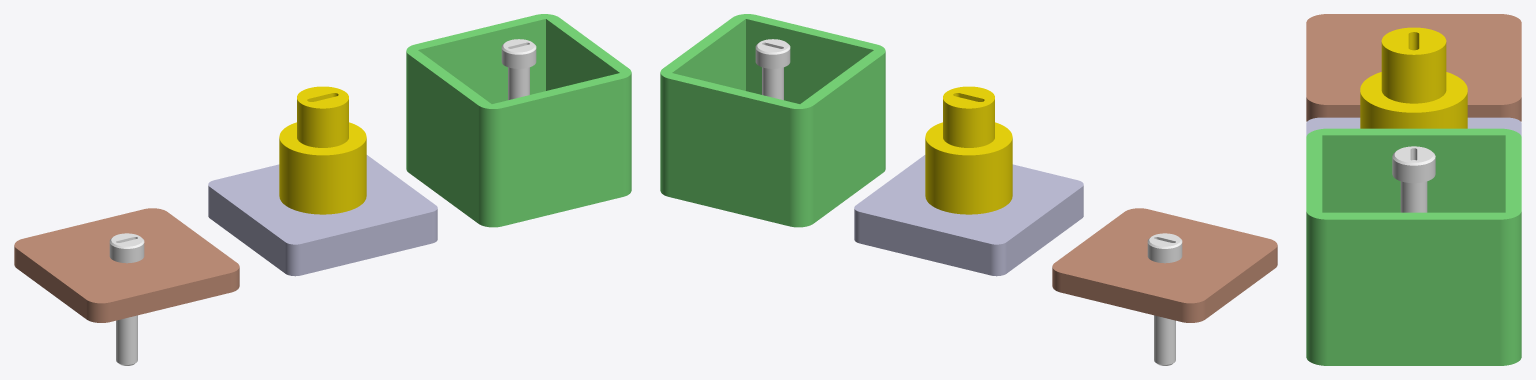
Rendered from kompleks_montaj_sade_orta.gltf.
3 renders of one model, left to right at view 1: azimuth 30°, elevation 25°; view 2: azimuth 150°, elevation 25°; view 3: azimuth 270°, elevation 25°, orthographic. The views are drawn at different scales.
Parts seen in each view (by area): view 1: sag_yesil_part, sol_kahverengi_part, orta_taban_part, sari_baslik_part, sol_vida_part, sag_vida_part; view 2: sag_yesil_part, sol_kahverengi_part, orta_taban_part, sari_baslik_part, sol_vida_part, sag_vida_part; view 3: sag_yesil_part, sol_kahverengi_part, sari_baslik_part, sag_vida_part, orta_taban_part.
Part boxes in pixels (x1,y1,x2,y2): sag_yesil_part: (406,14,631,227); sol_kahverengi_part: (14,208,239,322); orta_taban_part: (208,155,437,276); sari_baslik_part: (279,86,366,214); sol_vida_part: (109,233,144,365); sag_vida_part: (501,39,536,100); sag_yesil_part: (660,14,885,227); sol_kahverengi_part: (1052,208,1277,322); orta_taban_part: (854,155,1083,276); sari_baslik_part: (925,86,1012,214); sol_vida_part: (1147,233,1182,365); sag_vida_part: (755,39,790,100); sag_yesil_part: (1306,128,1521,365); sol_kahverengi_part: (1306,14,1521,121); sari_baslik_part: (1360,27,1467,128); sag_vida_part: (1392,146,1435,212); orta_taban_part: (1306,117,1521,136).
Bounding box in the file's own units: 144 × 56 × 40.
